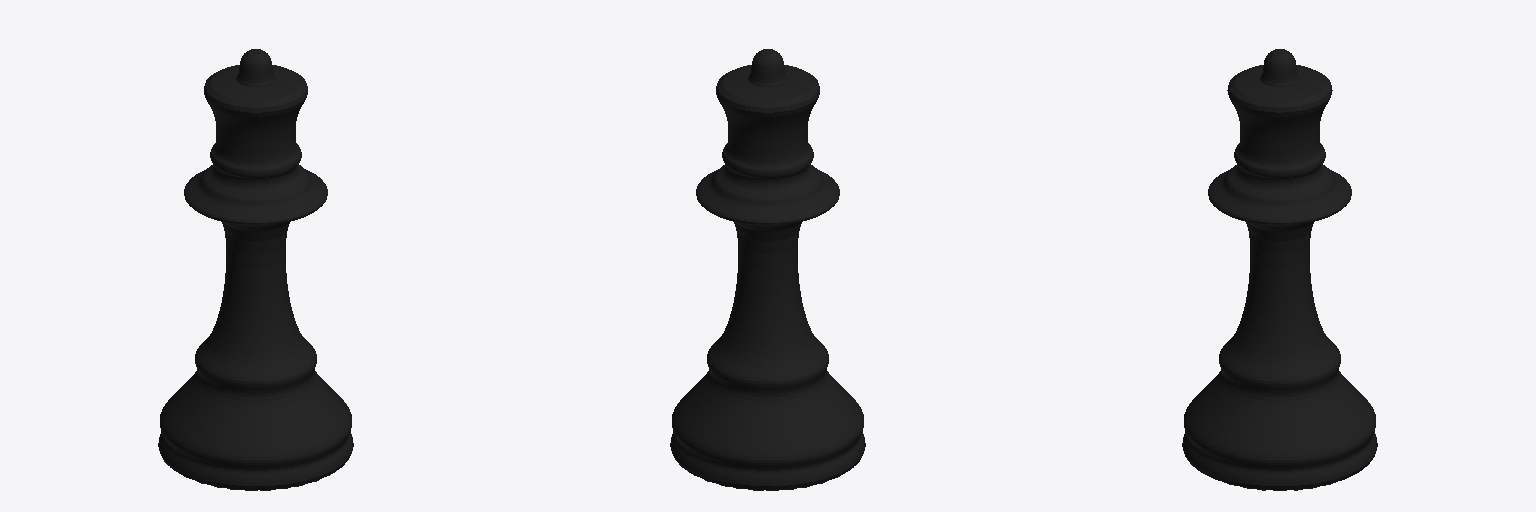
Rendered from queenbk.obj.
3 renders of one model, left to right at view 1: azimuth 30°, elevation 25°; view 2: azimuth 150°, elevation 25°; view 3: azimuth 270°, elevation 25°, orthographic.
Visible parts, largest first — view 1: Cylinder; view 2: Cylinder; view 3: Cylinder.
Boxes of the visible parts, box(x1,y1,x2,y2) form: Cylinder: box(158, 49, 353, 490); Cylinder: box(670, 49, 865, 490); Cylinder: box(1182, 49, 1377, 490).
Bounding box in the file's own units: 1.98 × 4.57 × 1.98.